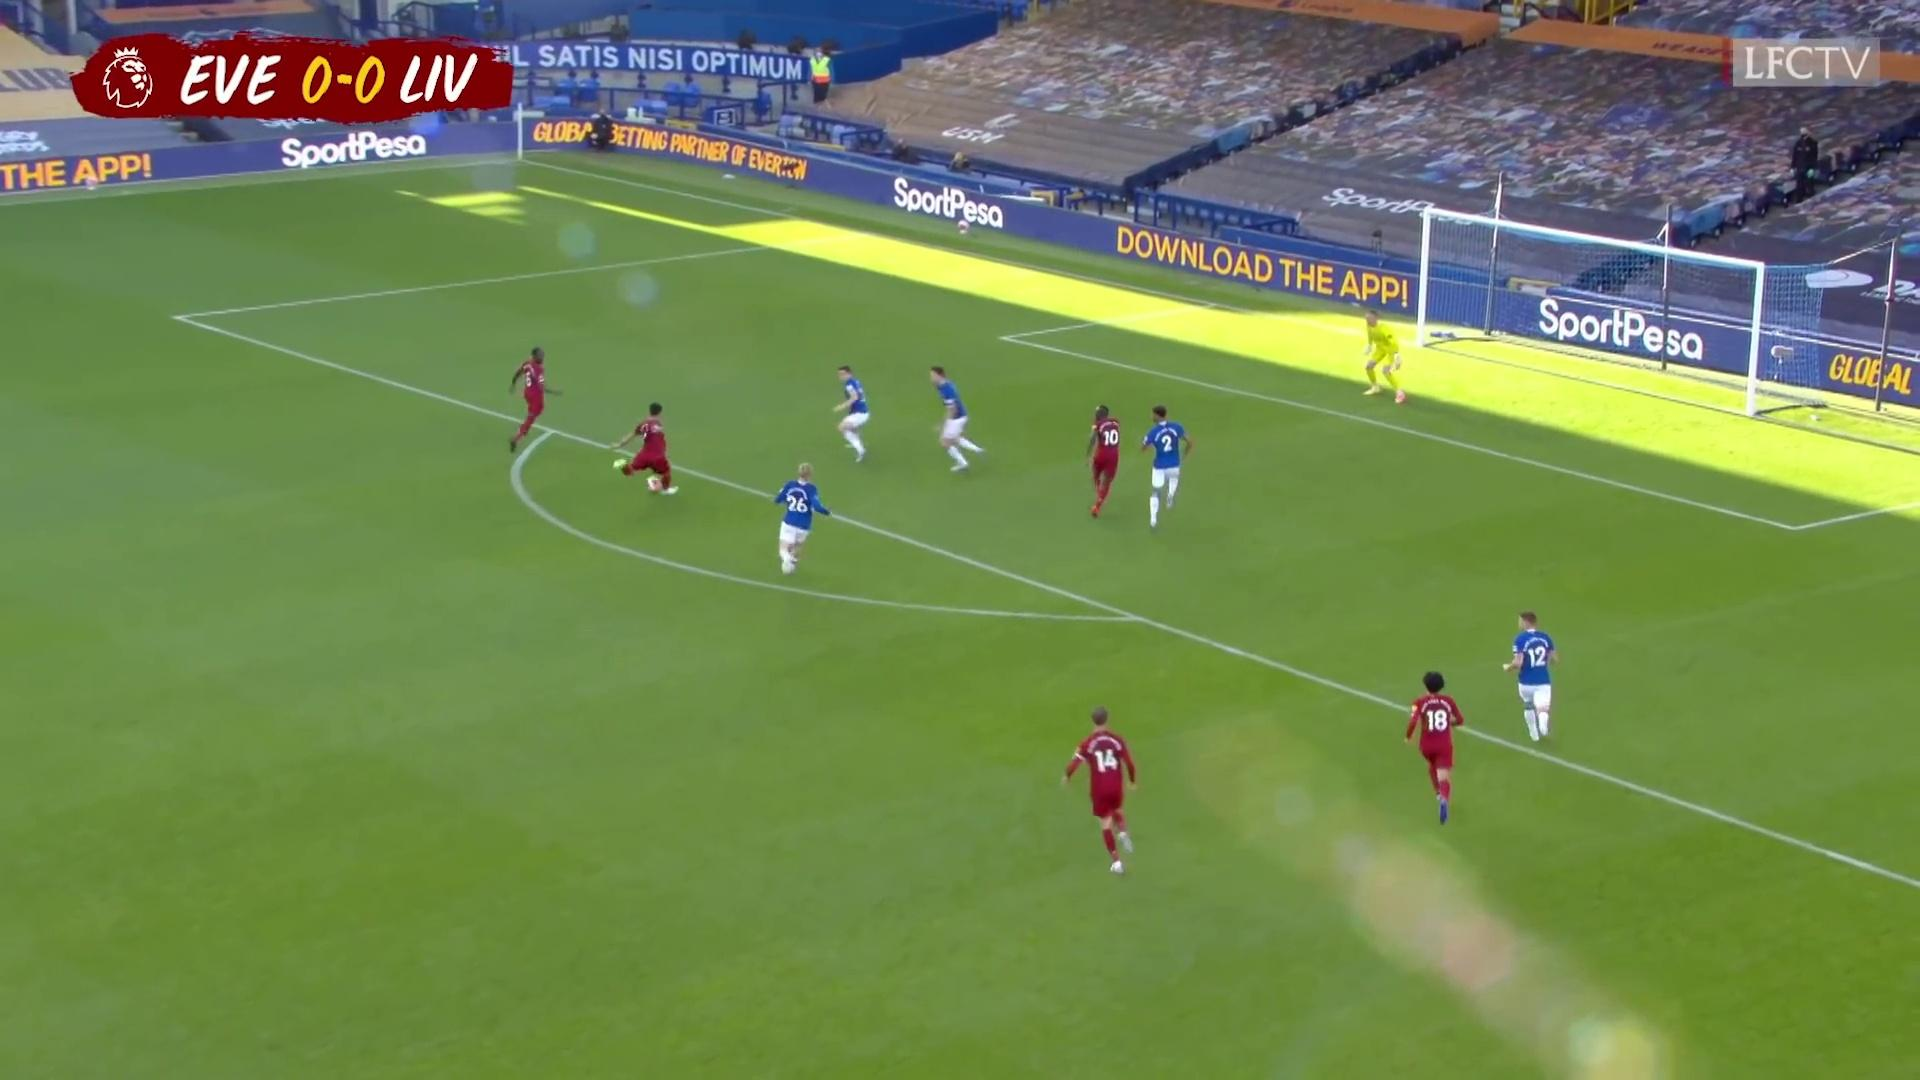ball: (646, 473, 665, 496)
